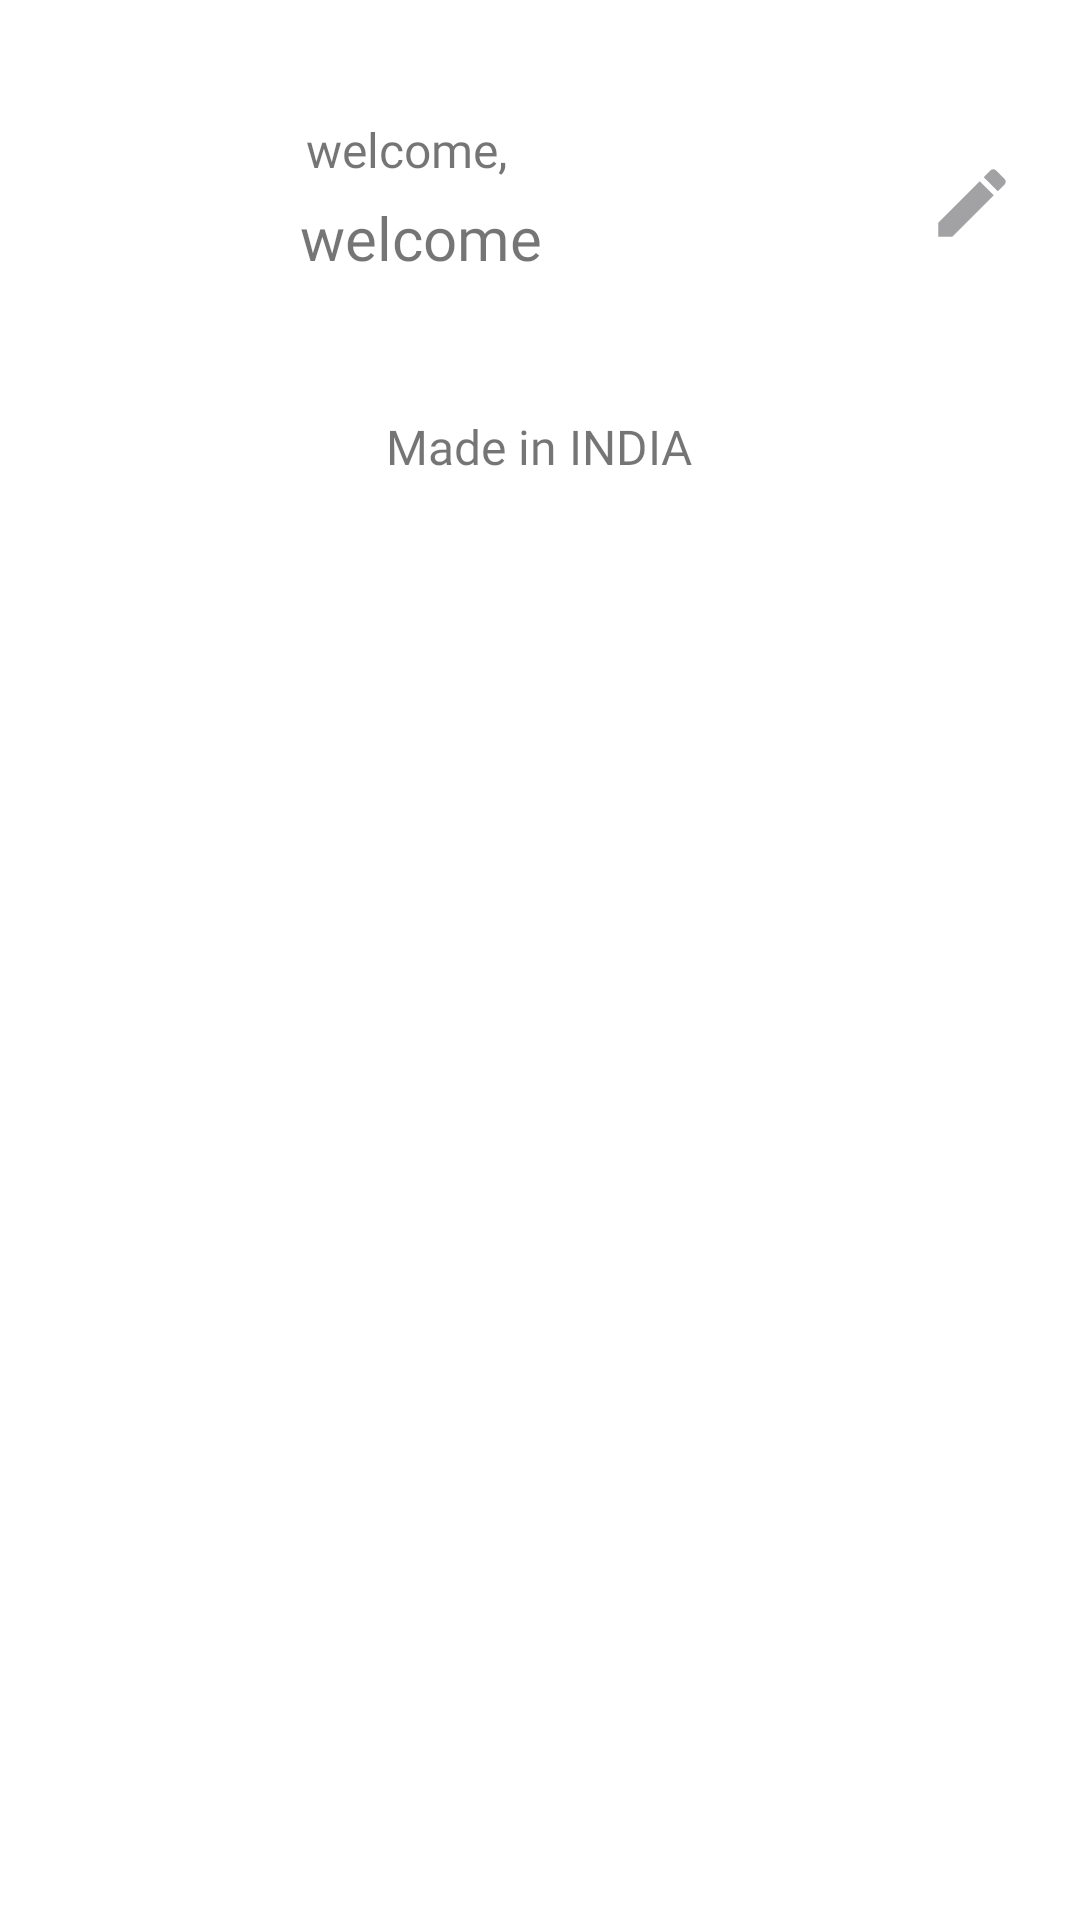

Icons on this 1080px×1920px Android screen, each with its box as (x1, y1, x2, y2):
edit: (938, 169, 1006, 237)
